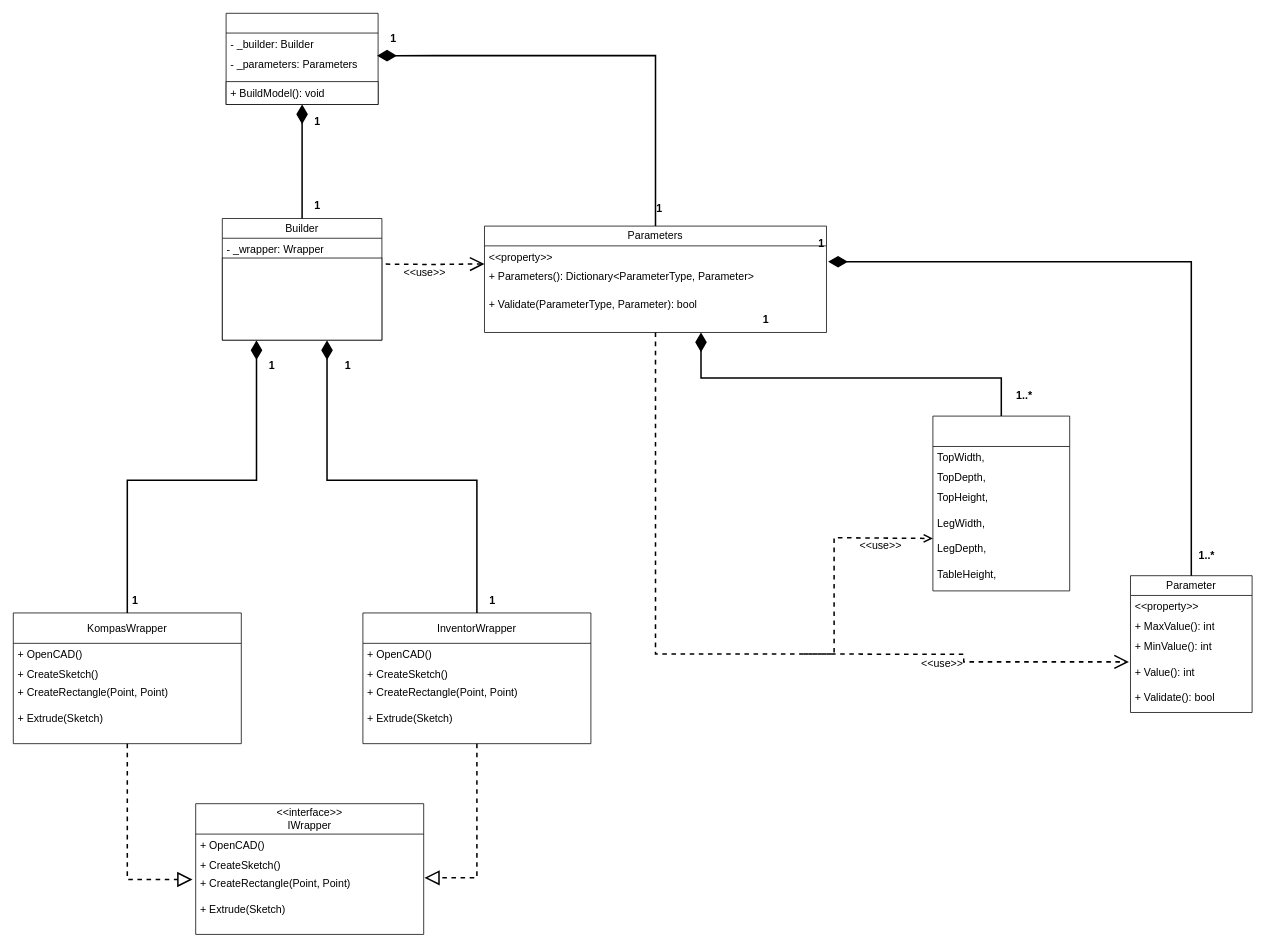
The diagram is 1265 pixels wide and 950 high, and some of its shapes have lost their labels. The box of each missing label's shape, as (x1, y1, x2, y2) in pixels:
+ Build(Parameters): void - BuildTop(): void - BuildLegs(): void: (222, 257, 382, 340)
<<enumeration>> ParameterType: (932, 415, 1070, 591)
MainForm: (225, 13, 378, 104)
